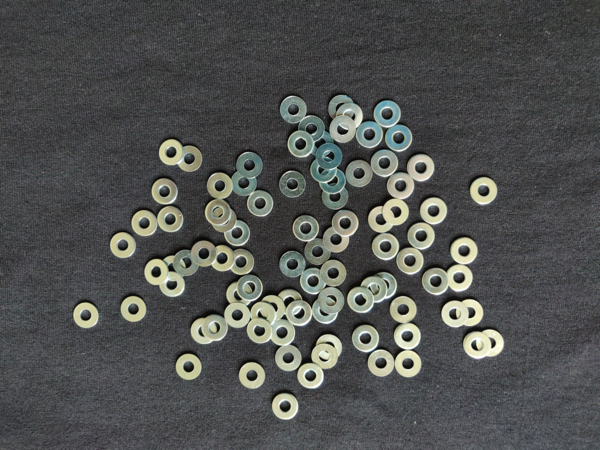circle: (70, 301, 101, 331), (277, 94, 307, 125), (470, 174, 499, 206), (389, 294, 419, 324), (394, 322, 425, 351), (292, 213, 323, 242), (175, 352, 204, 382), (407, 153, 437, 182), (386, 170, 415, 200), (477, 327, 505, 358), (271, 392, 300, 421), (351, 324, 380, 353), (371, 150, 400, 179), (408, 221, 437, 250), (447, 263, 476, 292), (297, 362, 325, 392), (130, 208, 158, 238), (151, 177, 181, 205), (368, 205, 396, 235), (370, 234, 400, 262), (178, 144, 205, 175), (191, 316, 217, 348), (395, 350, 423, 379), (304, 237, 332, 266), (332, 208, 360, 237), (279, 170, 307, 199), (287, 130, 315, 159), (305, 131, 334, 159), (420, 196, 448, 225), (464, 331, 492, 360), (326, 95, 356, 122), (356, 120, 383, 150), (386, 123, 412, 154), (158, 271, 186, 299), (317, 287, 345, 315), (320, 259, 348, 287), (231, 169, 259, 197), (346, 158, 374, 186), (382, 198, 410, 226), (397, 248, 425, 276), (158, 206, 187, 233), (236, 274, 263, 303), (280, 250, 307, 279), (247, 190, 276, 217), (322, 185, 351, 212), (374, 101, 403, 128), (422, 268, 449, 297), (207, 171, 233, 201), (202, 314, 229, 342), (275, 345, 302, 373), (316, 333, 344, 360), (109, 233, 137, 260), (161, 255, 188, 283), (172, 250, 200, 277), (228, 249, 256, 276), (224, 302, 252, 329), (313, 297, 340, 325), (347, 288, 375, 315), (451, 238, 479, 265), (441, 302, 468, 330), (457, 299, 484, 327), (239, 361, 265, 390), (311, 344, 340, 370), (159, 138, 185, 167), (301, 267, 327, 296), (336, 104, 365, 130), (372, 272, 398, 301), (362, 275, 387, 305), (269, 320, 296, 347), (225, 220, 252, 247), (236, 151, 263, 178), (119, 297, 147, 323), (368, 349, 396, 375), (246, 317, 272, 345), (204, 199, 232, 225), (330, 116, 356, 144), (191, 241, 218, 267), (287, 300, 313, 327), (324, 226, 350, 253), (299, 115, 325, 142), (317, 143, 344, 169), (320, 169, 347, 195), (211, 206, 236, 234), (277, 290, 304, 315), (211, 244, 234, 273), (227, 282, 253, 307), (251, 301, 276, 327), (310, 158, 337, 182), (145, 258, 168, 285), (263, 295, 285, 322)
